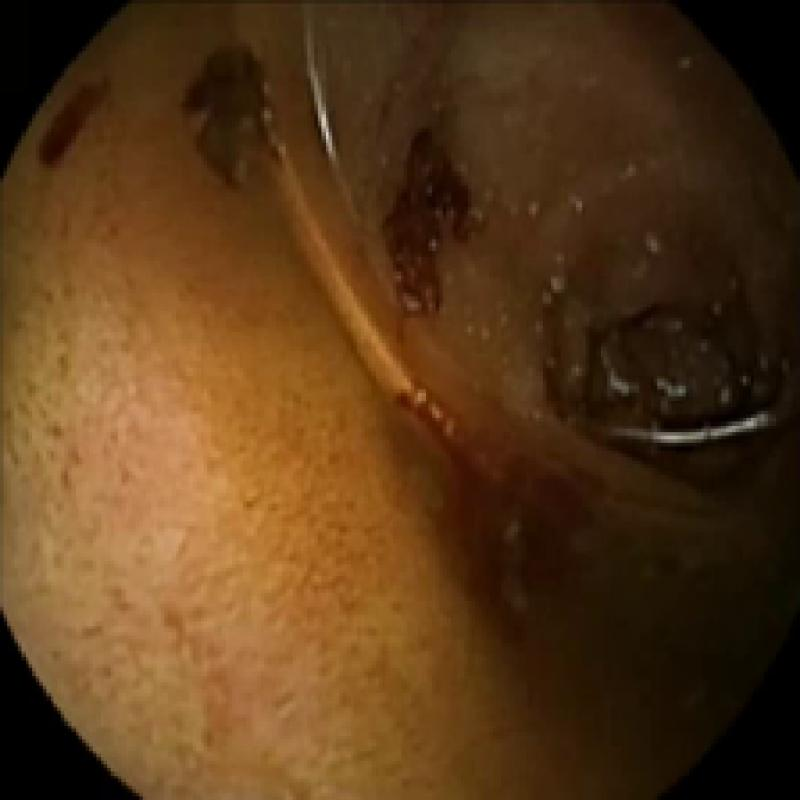bleeding: (387, 397, 599, 654), (374, 119, 488, 337), (32, 86, 107, 178)
